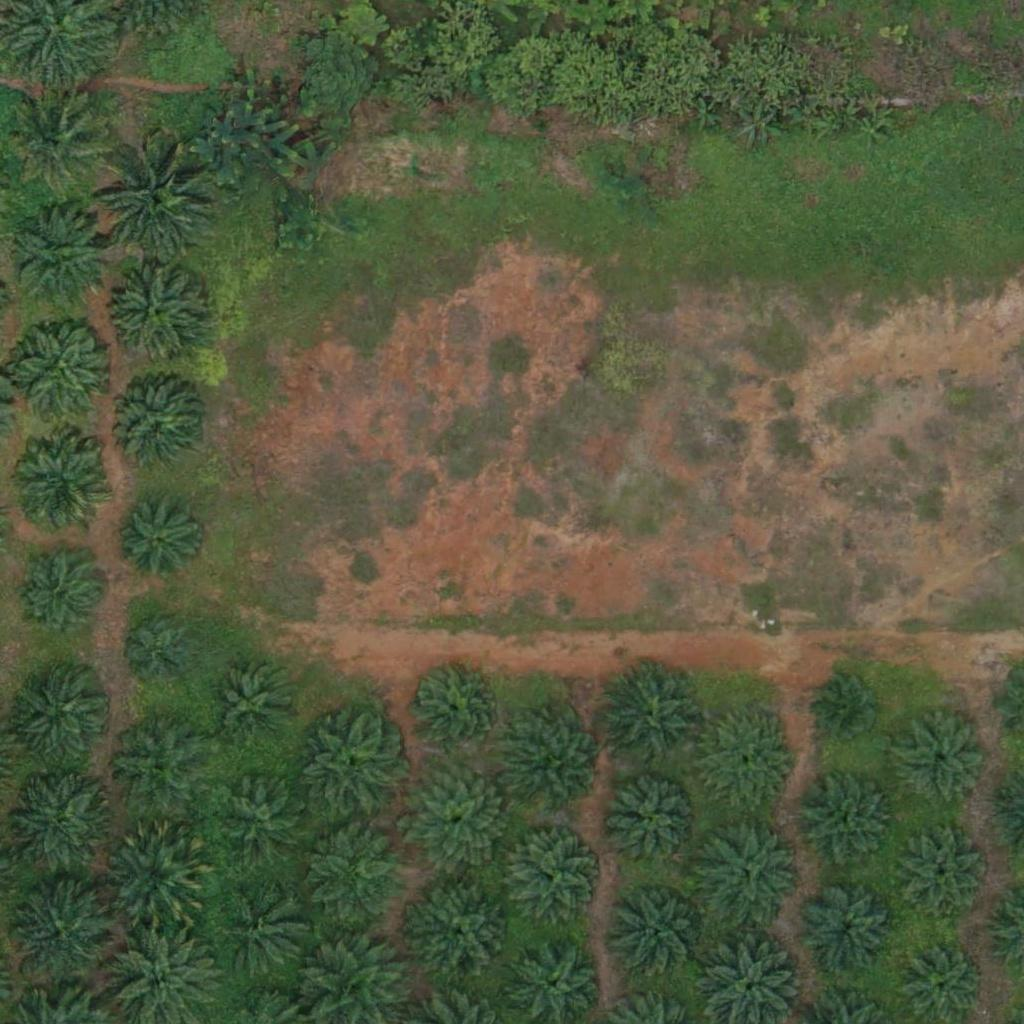Kelapa_Sawit: (4, 311, 117, 425), (402, 764, 515, 878), (406, 876, 519, 990), (100, 820, 213, 933), (3, 661, 116, 774), (102, 147, 214, 260), (7, 205, 119, 318), (4, 769, 116, 882), (597, 661, 709, 774), (12, 95, 112, 196), (106, 261, 206, 362), (108, 717, 208, 818), (9, 882, 109, 983), (505, 716, 605, 817), (606, 775, 706, 876), (608, 881, 708, 982), (699, 713, 799, 814), (701, 819, 801, 920), (795, 771, 895, 872), (798, 879, 898, 980), (892, 709, 992, 810), (108, 375, 208, 475), (9, 435, 109, 535), (301, 716, 401, 816), (314, 826, 414, 926), (505, 825, 605, 925), (900, 833, 988, 922), (113, 499, 201, 587), (208, 661, 296, 749), (219, 891, 307, 979), (224, 781, 311, 869), (15, 551, 102, 639), (409, 664, 496, 752), (818, 674, 881, 737), (126, 619, 189, 682)
